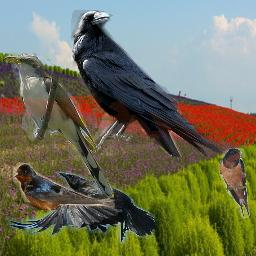Crow: (71, 10, 225, 157), (6, 171, 155, 244)
Cuckoo: (3, 53, 114, 199)
Swallow: (13, 163, 115, 210), (219, 148, 250, 218)
